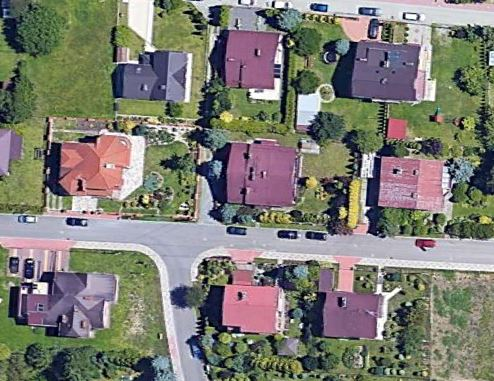family house: (18, 268, 121, 343), (52, 130, 133, 201), (221, 137, 299, 207), (350, 38, 428, 103), (222, 25, 286, 92), (117, 49, 193, 104), (316, 285, 388, 343), (378, 154, 446, 213), (220, 281, 286, 337)
